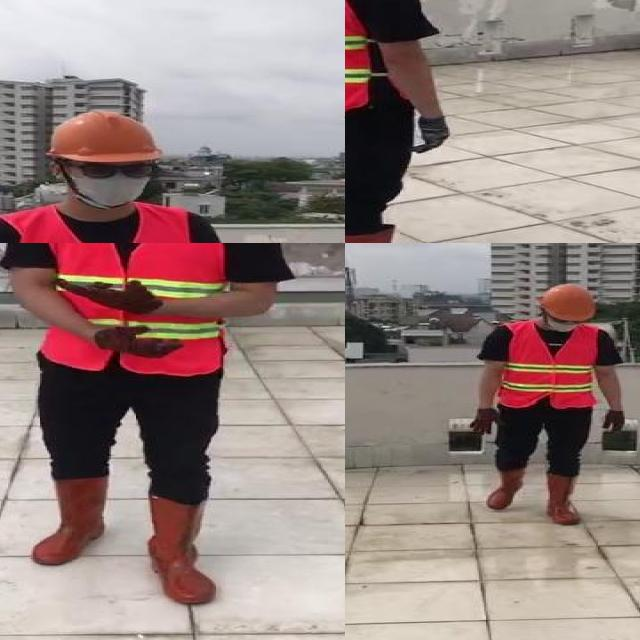boots: (147, 496, 216, 605), (29, 475, 106, 567), (545, 472, 587, 525), (484, 466, 525, 511)
face_mask: (60, 159, 158, 209), (540, 310, 588, 334)
glasses: (74, 157, 159, 185)
hand_glove: (68, 280, 164, 317), (91, 325, 177, 359), (413, 113, 449, 155), (470, 409, 506, 435), (602, 409, 626, 435)
head_helmet: (40, 107, 172, 164), (541, 282, 595, 322)
person: (15, 243, 278, 611), (462, 281, 629, 531), (0, 101, 258, 243), (345, 0, 463, 243)
vest: (38, 243, 239, 377), (500, 324, 594, 409), (6, 206, 194, 243)
